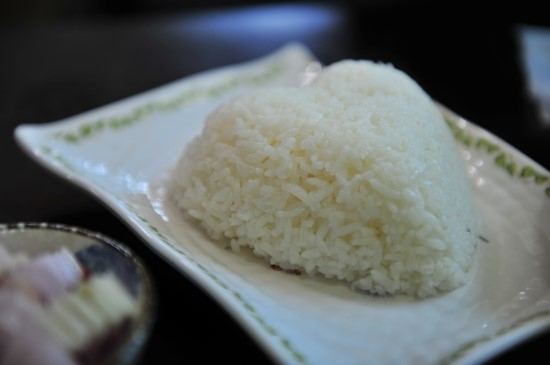plain rice: (195, 88, 476, 273)
